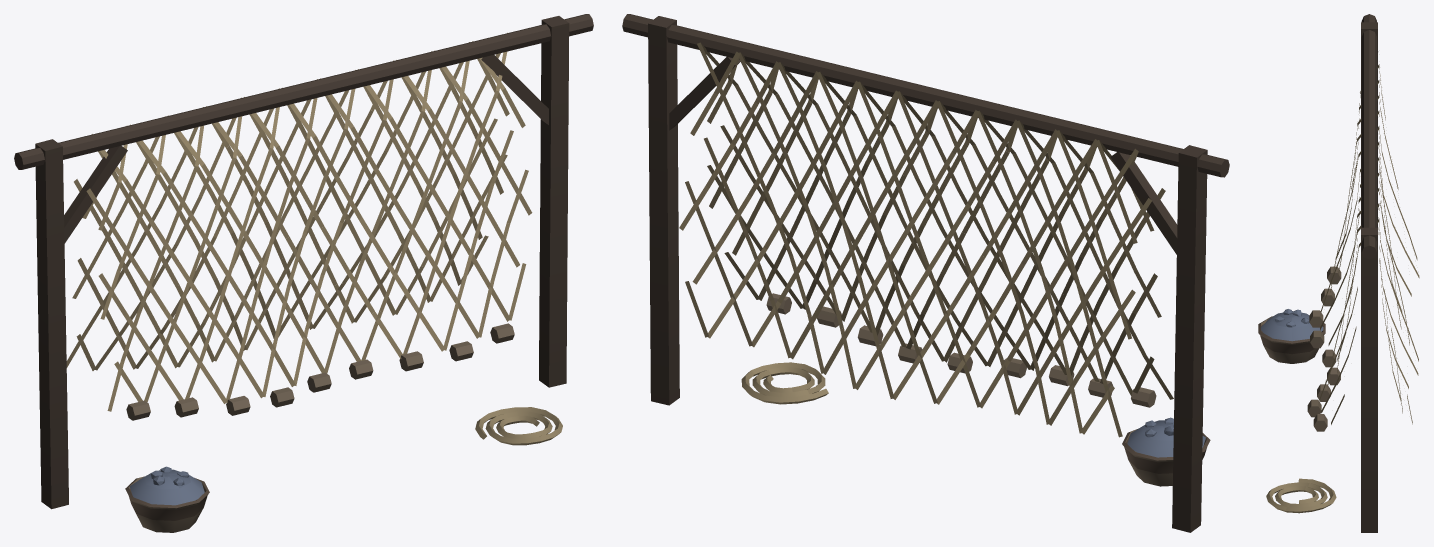
File: net_rack.glb
3 renders of one model, left to right at view 1: azimuth 30°, elevation 25°; view 2: azimuth 150°, elevation 25°; view 3: azimuth 270°, elevation 25°, orthographic. The views are drawn at different scales.
Parts seen in each view (by area): view 1: isl_net_rack; view 2: isl_net_rack; view 3: isl_net_rack.
Part boxes in pixels (x1,y1,x2,y2): isl_net_rack: (14, 14, 593, 532); isl_net_rack: (622, 14, 1229, 532); isl_net_rack: (1258, 14, 1419, 532).
Bounding box in the file's own units: 3.9 × 2.36 × 1.15.
